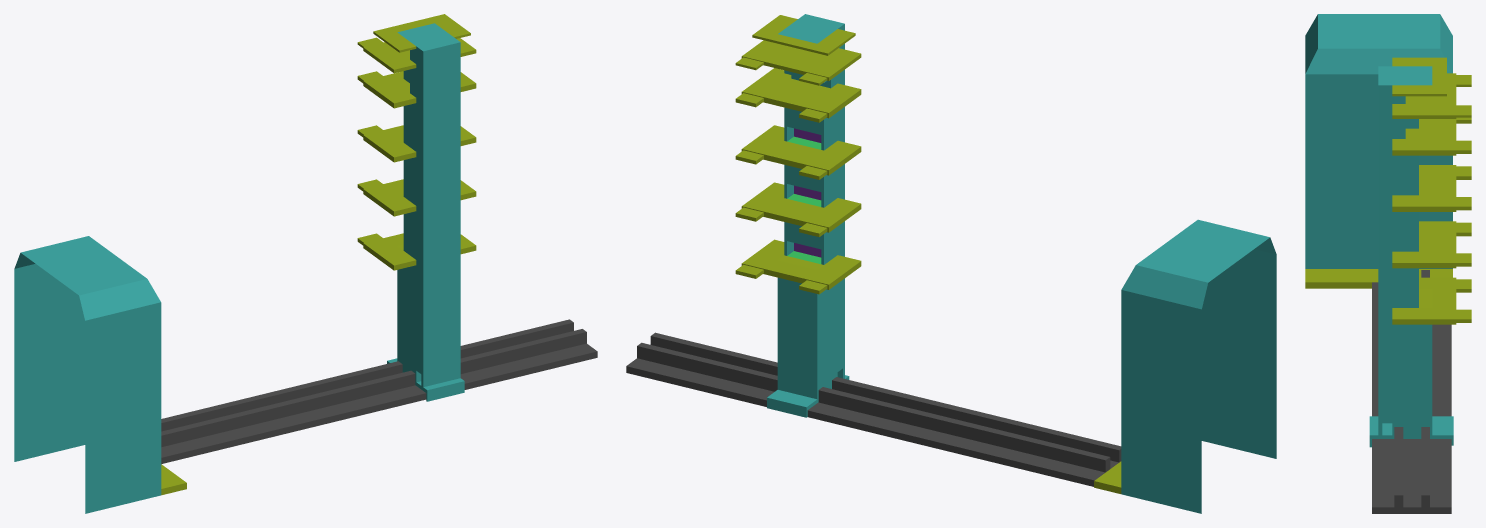
File: Grue.fbx
3 views of the same model, side by side, from view 1: azimuth 30°, elevation 25°; view 2: azimuth 150°, elevation 25°; view 3: azimuth 270°, elevation 25° (orthographic). The views are drawn at different scales.
Visible parts, largest first — view 1: Plane.010; view 2: Plane.010; view 3: Plane.010.
Boxes of the visible parts, bbox=[...] form: Plane.010: bbox=[14, 14, 597, 513]; Plane.010: bbox=[626, 14, 1276, 513]; Plane.010: bbox=[1305, 14, 1471, 513].
Size of the model in its own units: 73.79 by 45 by 18.74.
